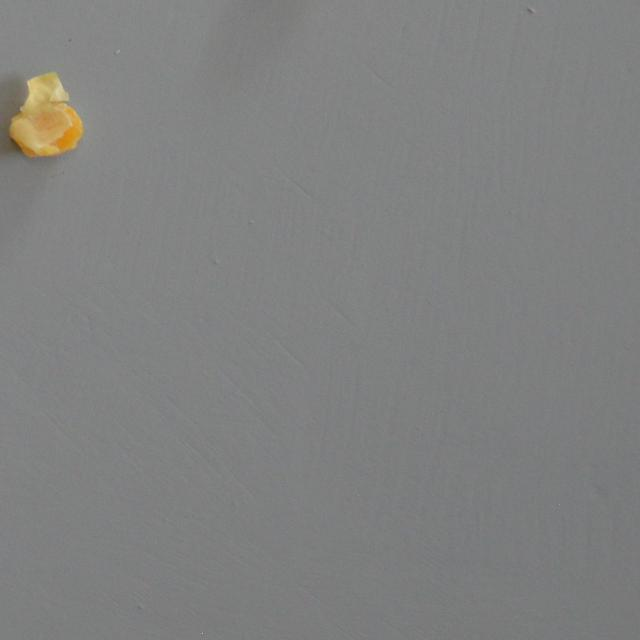pelicula: (0, 48, 94, 172)
